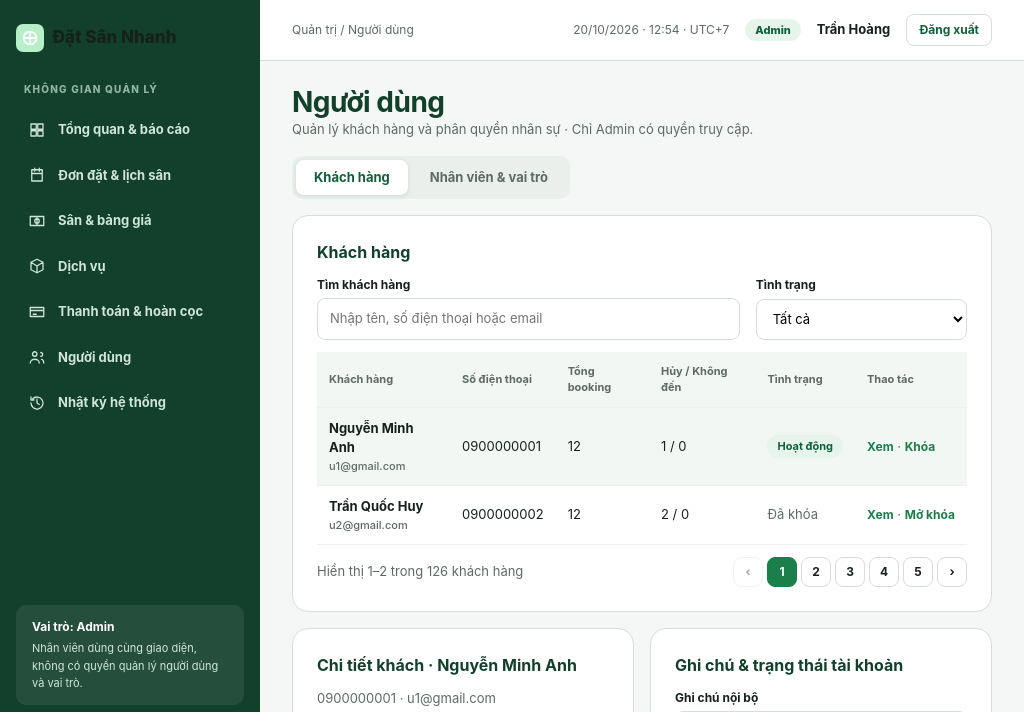
it: Người dùng - tab Khách hàng › mở khóa không cần lý do
expect the heading "Chi tiết khách · Nguyễn Minh Anh" is shown: met, box x1=317 y1=653 x2=609 y2=677
Click the button named "Mở khóa Trần Quốc Huy".
click(930, 515)  # box x1=905 y1=506 x2=955 y2=524
(page scrolled)
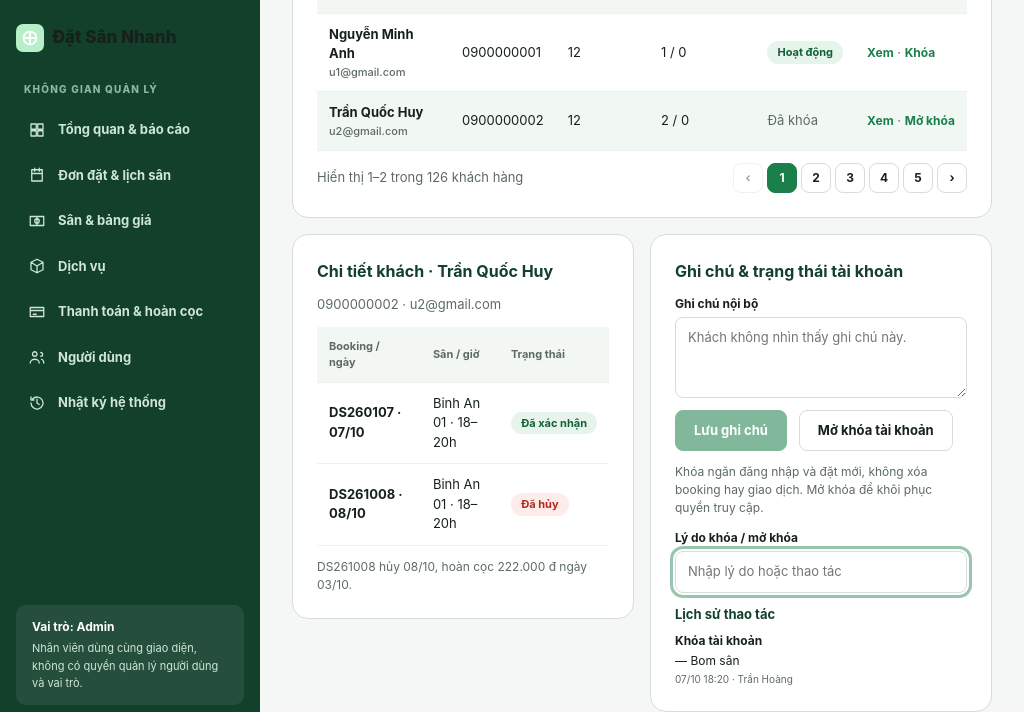
expect the heading "Chi tiết khách · Trần Quốc Huy" is shown: met, box x1=317 y1=261 x2=553 y2=281
Click the button "Mở khóa tài khoản".
click(876, 430)  # box x1=799 y1=410 x2=953 y2=451
(page scrolled)
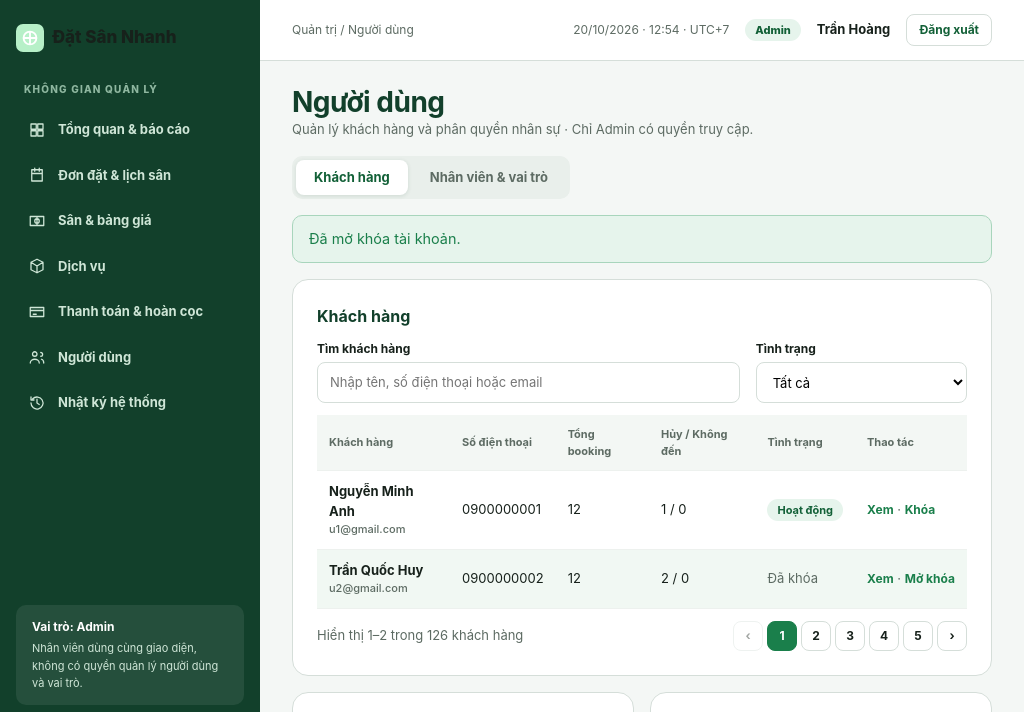
expect the text "Đã mở khóa tài khoản." is shown: met, box x1=292 y1=215 x2=992 y2=263
